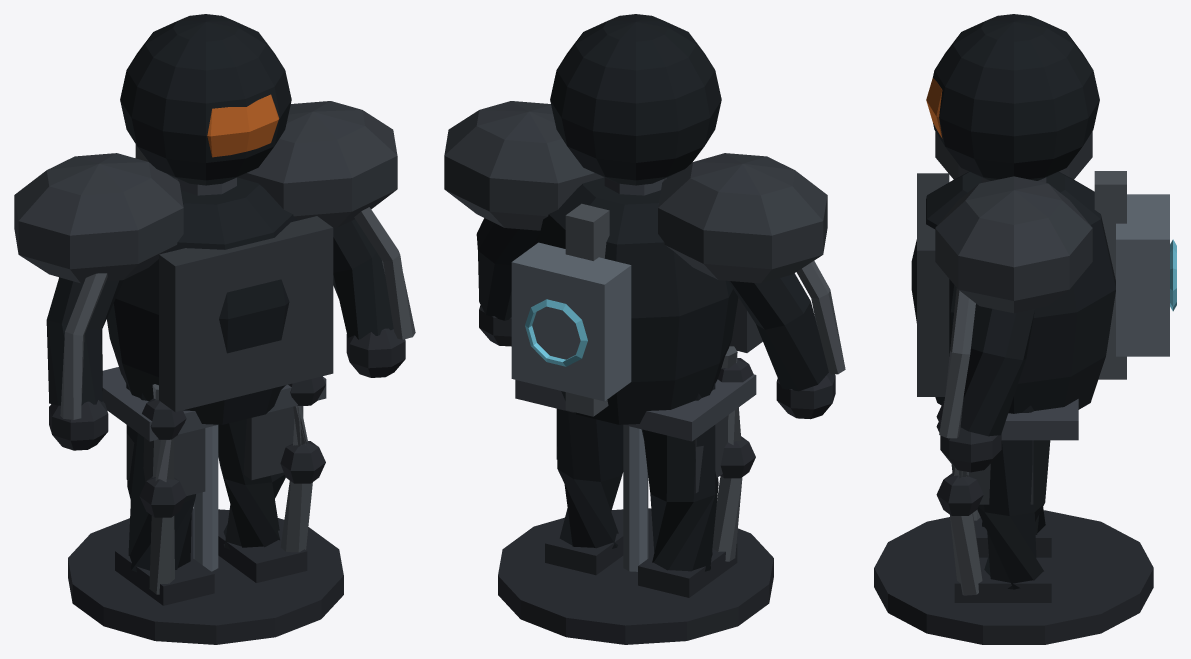
The model's file is heavy-exoskeleton.glb.
3 views of the same model, side by side, from view 1: azimuth 30°, elevation 25°; view 2: azimuth 150°, elevation 25°; view 3: azimuth 270°, elevation 25° (orthographic).
Visible parts, largest first — view 1: m; view 2: m; view 3: m.
Boxes of the visible parts, x1,y1,x2,y2 form: m: [14, 14, 415, 644]; m: [444, 14, 845, 644]; m: [874, 14, 1176, 644].
Size of the model in its own units: 0.3892 by 0.56 by 0.2718.
